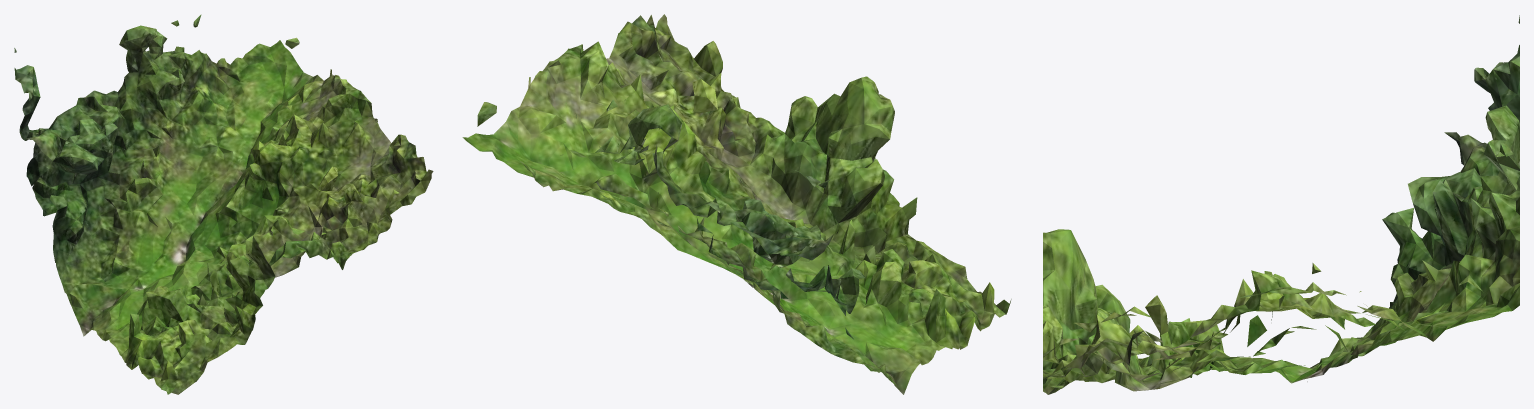
The picture shows the model from 3 angles, left to right: view 1: azimuth 30°, elevation 25°; view 2: azimuth 150°, elevation 25°; view 3: azimuth 270°, elevation 25°; orthographic projection. The views are drawn at different scales.
Bounding box in the file's own units: 26.11 × 22.47 × 26.11.
Materials: 5 (5 with a texture image).
